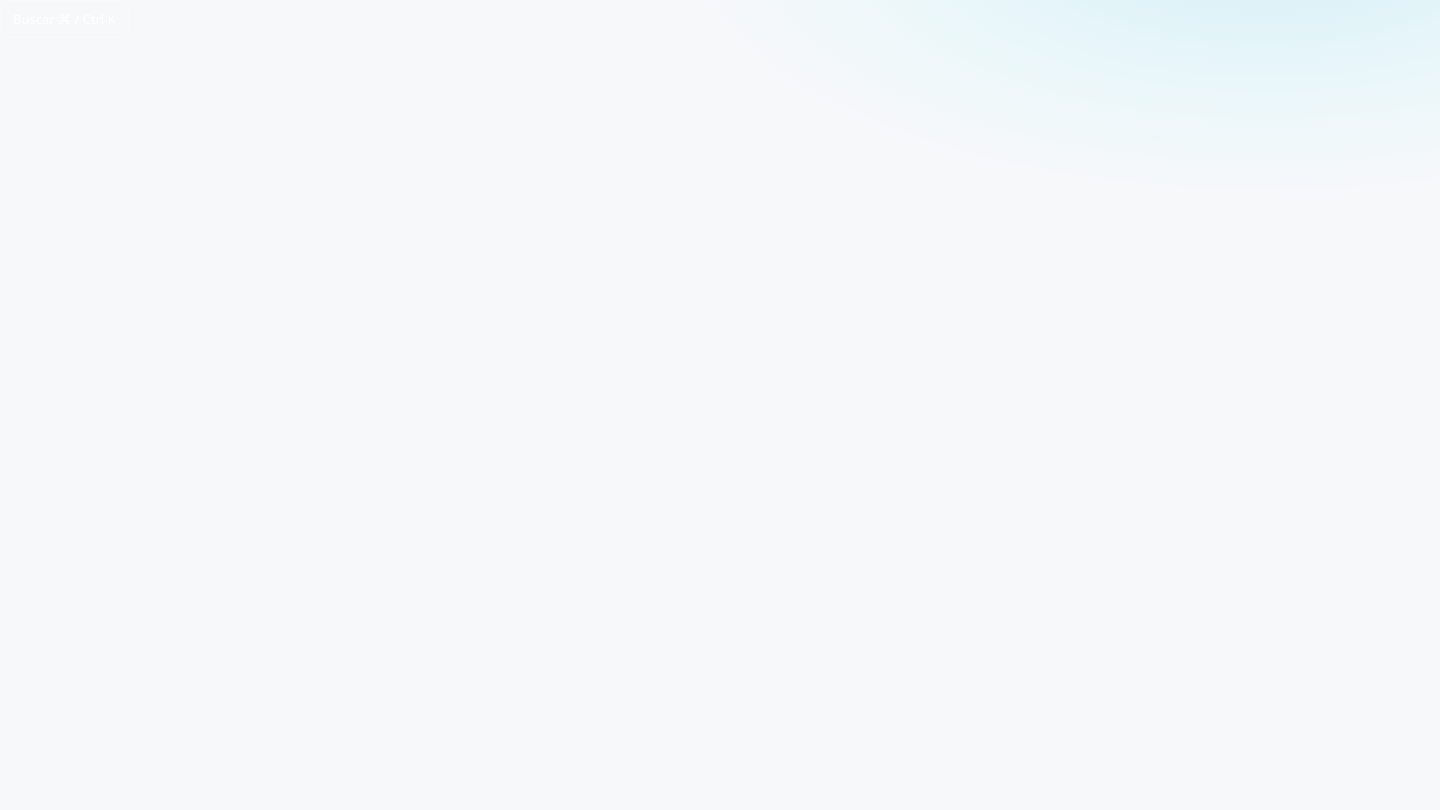
Test: Navegação unificada › abre busca pelo teclado e restaura foco ao fechar
Press k
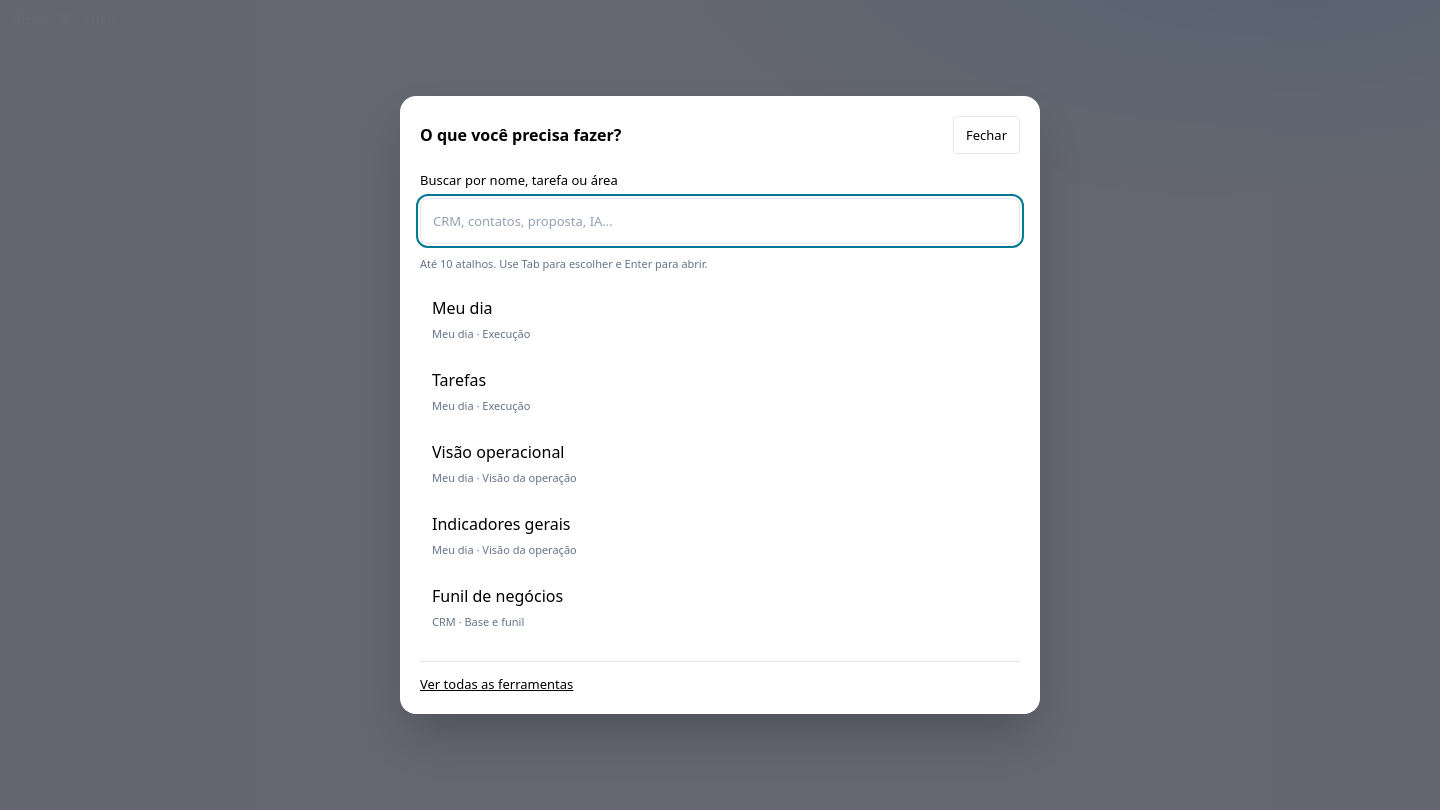
Click the button "Fechar". click: (986, 135)
box: [953, 116, 1020, 154]
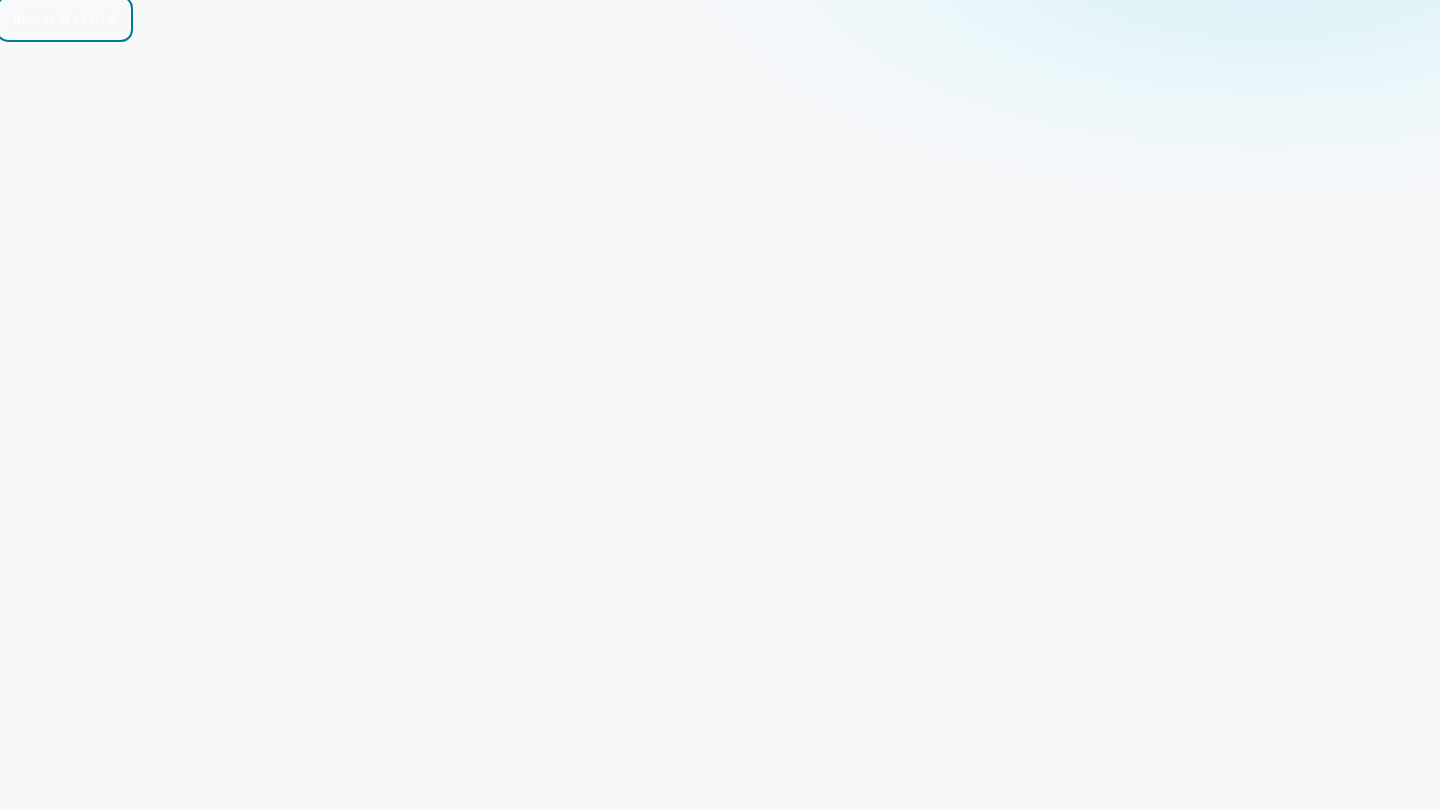
Expected: the dialog is gone
